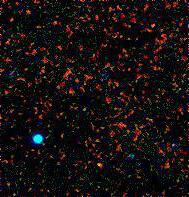star: (86, 148, 116, 178)
